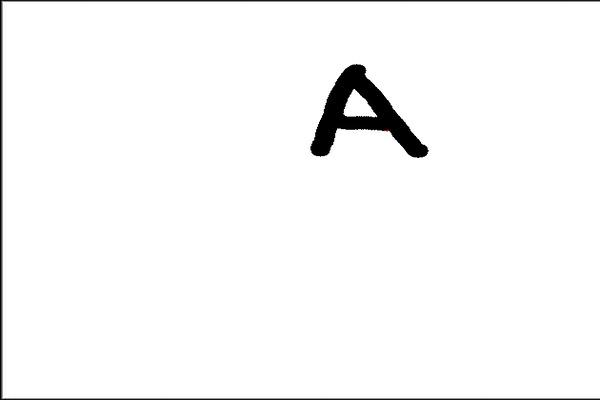A: (304, 54, 432, 172)
